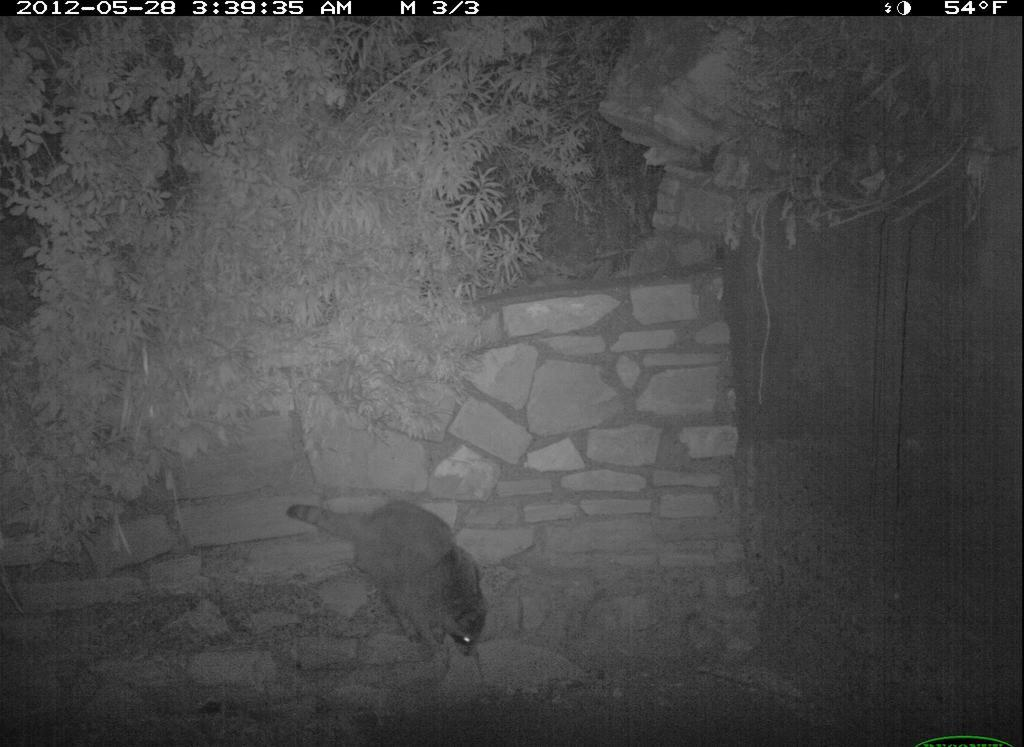raccoon: (278, 495, 498, 672)
